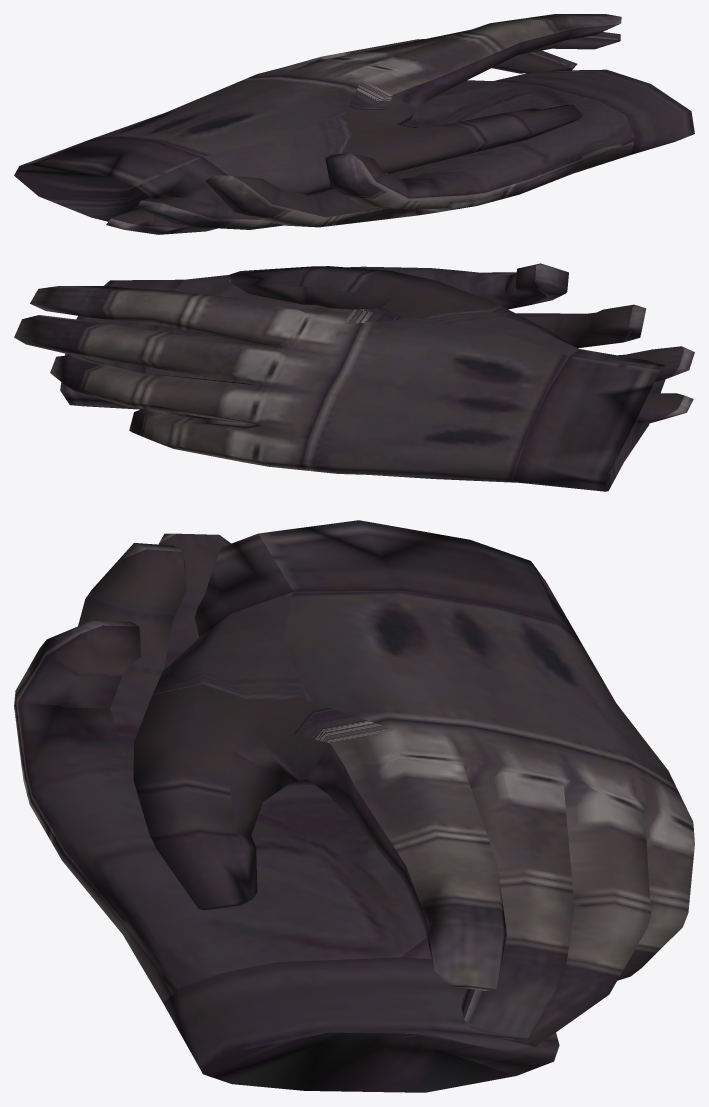
File: SArmorTacticalGloves_Ground.fbx
The picture shows the model from 3 angles, top to bottom: view 1: azimuth 30°, elevation 25°; view 2: azimuth 150°, elevation 25°; view 3: azimuth 270°, elevation 25°; orthographic projection. The views are drawn at different scales.
Visible parts, largest first — view 1: GLOVES; view 2: GLOVES; view 3: GLOVES.
Boxes of the visible parts, x1,y1,x2,y2 form: GLOVES: (14,14,694,234); GLOVES: (14,263,694,491); GLOVES: (14,520,694,1092).
Size of the model in its own units: 0.1543 by 0.0318 by 0.095.
